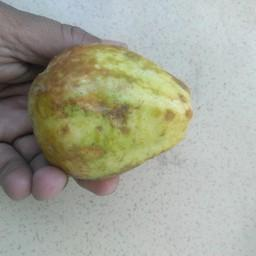Bad_guava: (26, 44, 199, 180)
